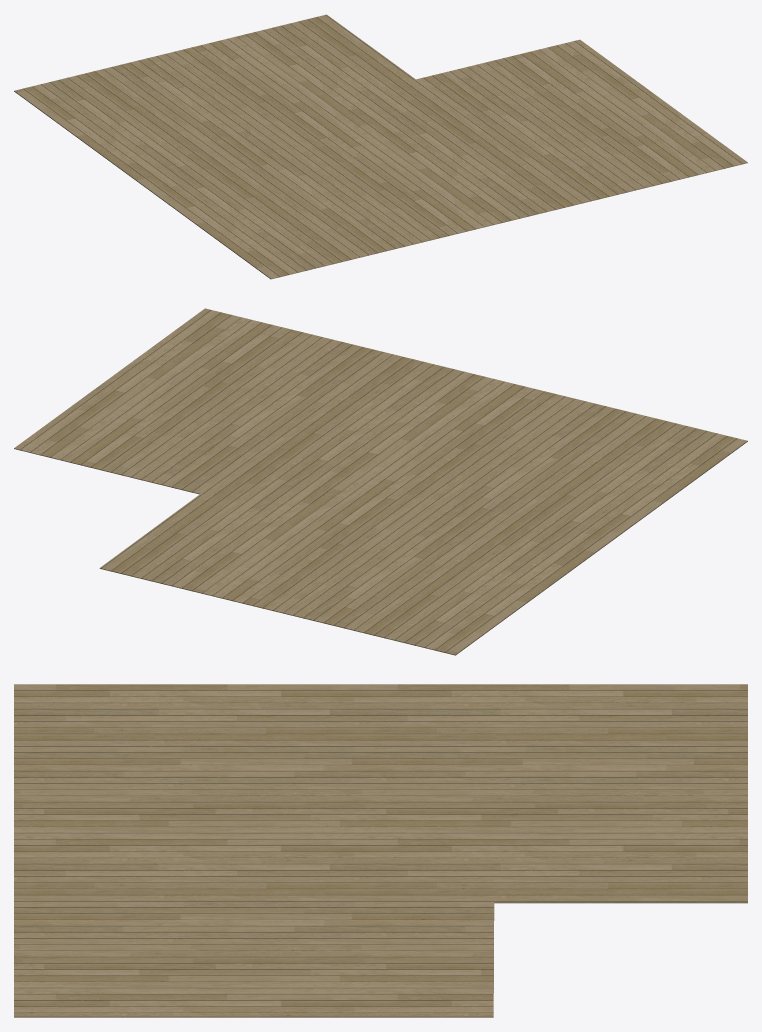
File: aws_RetailShopCeiling_01_visual.DAE
The picture shows the model from 3 angles, top to bottom: view 1: azimuth 30°, elevation 25°; view 2: azimuth 150°, elevation 25°; view 3: azimuth 270°, elevation 25°; orthographic projection. The views are drawn at different scales.
Visible parts, largest first — view 1: aws_RetailShopCeiling_01_visual; view 2: aws_RetailShopCeiling_01_visual; view 3: aws_RetailShopCeiling_01_visual.
Boxes of the visible parts, box(x1,y1,x2,y2) form: aws_RetailShopCeiling_01_visual: box(14, 14, 747, 279); aws_RetailShopCeiling_01_visual: box(14, 308, 747, 655); aws_RetailShopCeiling_01_visual: box(14, 684, 747, 1017).
Size of the model in its own units: 1547 by 1443 by 2.
Materials: 1 (1 with a texture image).
